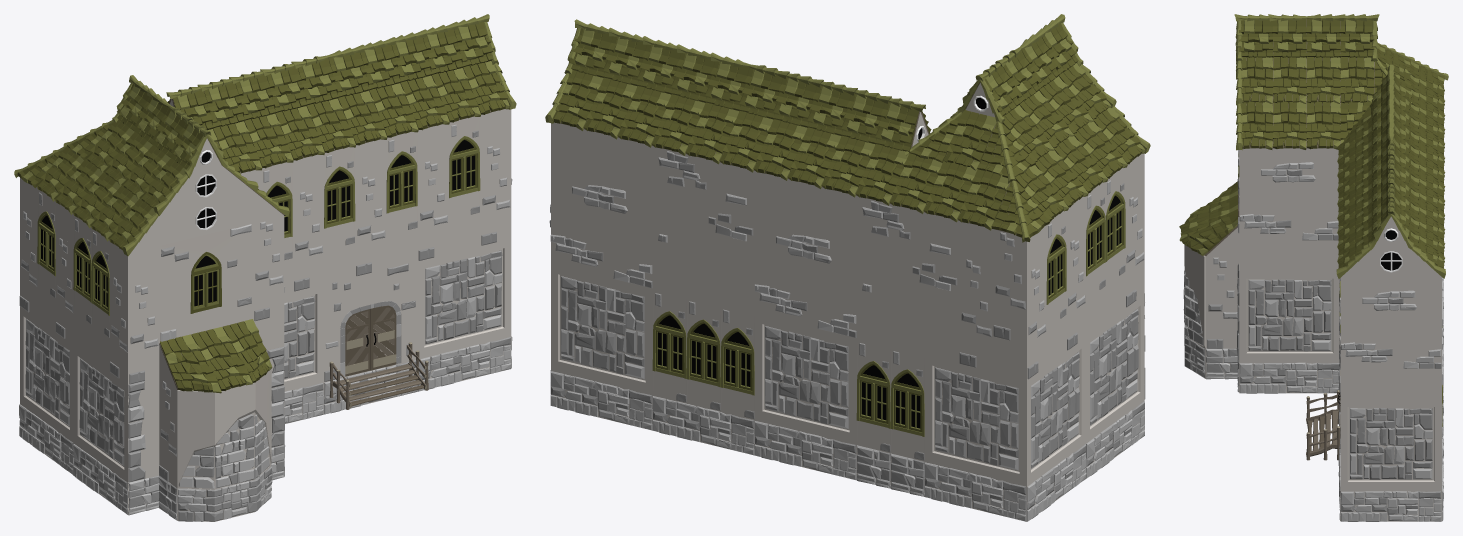
The model's file is House_17.glb.
3 views of the same model, side by side, from view 1: azimuth 30°, elevation 25°; view 2: azimuth 150°, elevation 25°; view 3: azimuth 270°, elevation 25° (orthographic). The views are drawn at different scales.
Parts seen in each view (by area): view 1: WALL_02_4, BALKON_03_2, WINDOW_02_2, DOOR_02_4, ROOF_base_round_2, WALL_02_7, WALL_02_8, WALL_02_3, FOUNDATION_01_2, WALL_06_9, WALL_06_6, WALL_06_7 (+76 smaller); view 2: WALL_03_5, WALL_02_9, WALL_02_10, WALL_01_3, WALL_01_2, WALL_03_4, WALL_02_11, WALL_02_8, WALL_02_7, FOUNDATION_03_10, FOUNDATION_03_8, FOUNDATION_03_9 (+77 smaller); view 3: WALL_02_6, WALL_03_3, WALL_02_5, WALL_03_2, FOUNDATION_03_2, FOUNDATION_03_6, WALL_06_16, ROOF_base_round_2, BALKON_03_2, STAIRS_01_3, ROOF_BASE_26, ROOF_BASE_25 (+48 smaller).
Part boxes in pixels (x1,y1,x2,y2): WALL_02_4: (417, 238, 511, 358); BALKON_03_2: (177, 369, 271, 489); WINDOW_02_2: (159, 223, 252, 342); DOOR_02_4: (324, 261, 417, 381); ROOF_base_round_2: (159, 319, 272, 393); WALL_02_7: (74, 345, 128, 482); WALL_02_8: (20, 306, 73, 442); WALL_02_3: (284, 284, 323, 391); FOUNDATION_01_2: (177, 465, 272, 521); WALL_06_9: (480, 140, 511, 245); WALL_06_6: (292, 186, 323, 291); WALL_06_7: (355, 170, 386, 276); WALL_03_5: (754, 206, 856, 337); WALL_02_9: (925, 355, 1028, 485); WALL_02_10: (755, 313, 856, 444); WALL_01_3: (857, 196, 958, 327); WALL_01_2: (653, 146, 754, 277); WALL_03_4: (550, 157, 652, 288); WALL_02_11: (551, 263, 652, 394); WALL_02_8: (1023, 336, 1085, 486); WALL_02_7: (1086, 294, 1144, 442); FOUNDATION_03_10: (924, 461, 1026, 521); FOUNDATION_03_8: (652, 395, 754, 455); FOUNDATION_03_9: (754, 420, 856, 480); WALL_02_6: (1239, 270, 1339, 362); WALL_03_3: (1340, 277, 1441, 368); WALL_02_5: (1340, 399, 1441, 490); WALL_03_2: (1239, 148, 1338, 240); FOUNDATION_03_2: (1239, 362, 1339, 393); FOUNDATION_03_6: (1340, 491, 1441, 521); WALL_06_16: (1205, 256, 1239, 348); ROOF_base_round_2: (1179, 181, 1239, 256); BALKON_03_2: (1183, 244, 1206, 348); STAIRS_01_3: (1306, 390, 1340, 460); ROOF_BASE_26: (1272, 101, 1306, 149); ROOF_BASE_25: (1306, 101, 1340, 149).
Bounding box in the file's own units: 14.28 × 11.2 × 7.99.
1 material, 1 textured.
